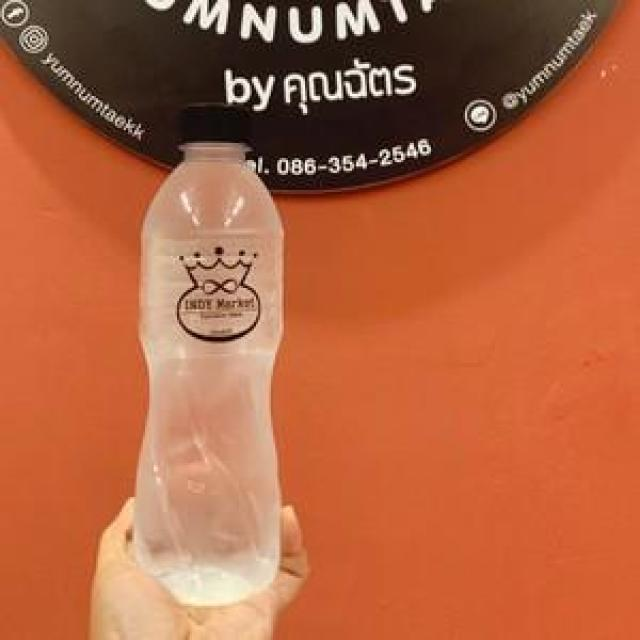bottle: (124, 94, 301, 614)
